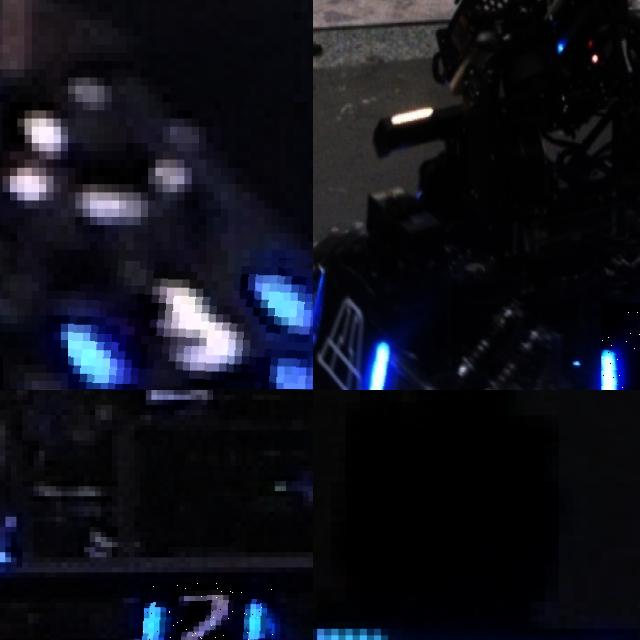B2: (140, 582, 274, 640)
B3: (68, 249, 313, 389), (601, 303, 640, 390)
